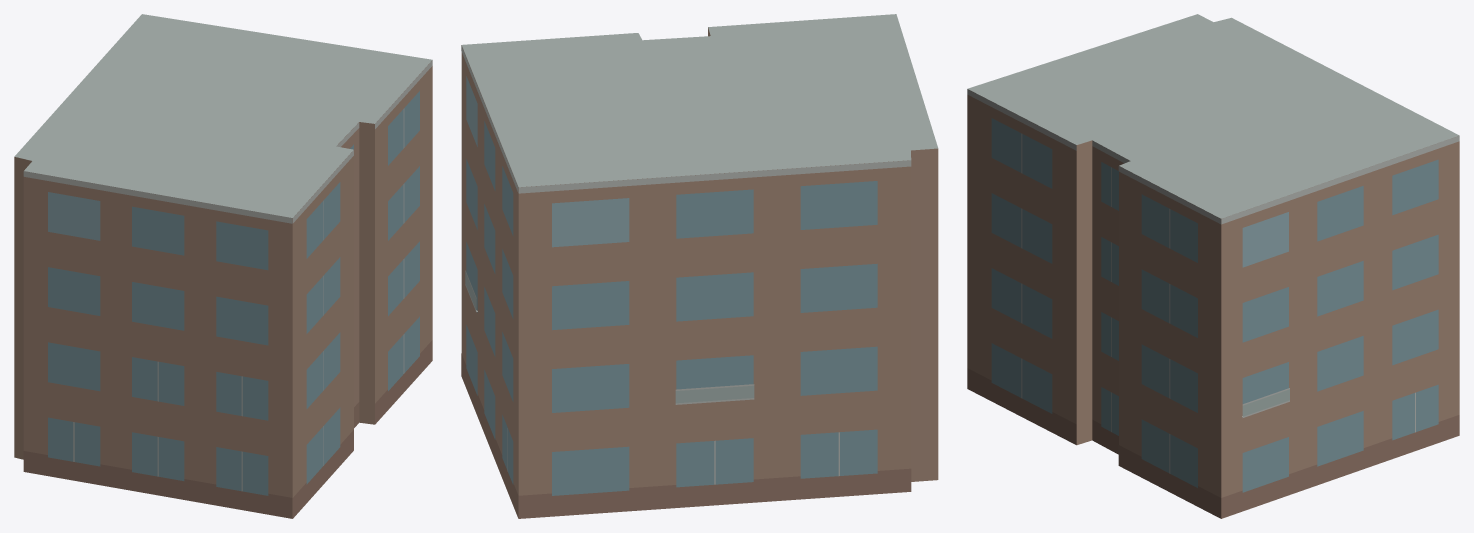
File: survey-upis-32740431.glb
The picture shows the model from 3 angles, left to right: view 1: azimuth 30°, elevation 25°; view 2: azimuth 150°, elevation 25°; view 3: azimuth 270°, elevation 25°; orthographic projection. The views are drawn at different scales.
Visible parts, largest first — view 1: survey-upis-32740431.tmp; view 2: survey-upis-32740431.tmp; view 3: survey-upis-32740431.tmp.
Boxes of the visible parts, left/top/right/bottom form: survey-upis-32740431.tmp: left=14, top=14, right=432, bottom=518; survey-upis-32740431.tmp: left=461, top=14, right=938, bottom=518; survey-upis-32740431.tmp: left=967, top=14, right=1459, bottom=518.
Size of the model in its own units: 18.74 by 12.8 by 19.04.
